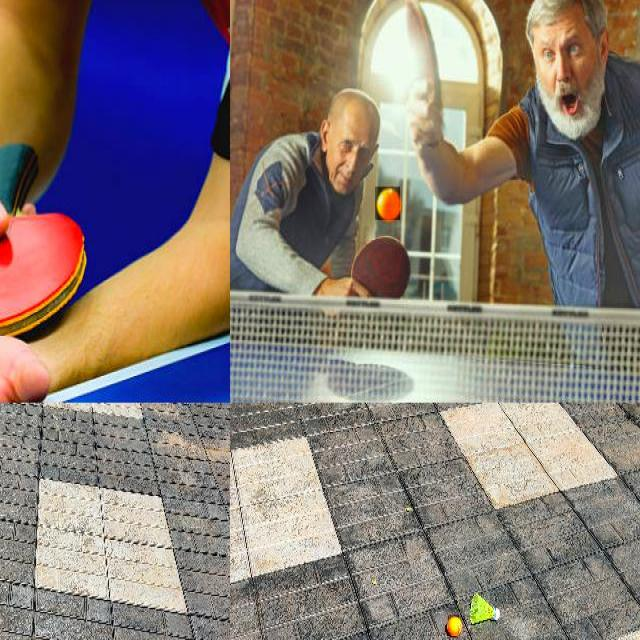ping-pong-ball: (376, 187, 400, 221), (448, 615, 460, 636)
